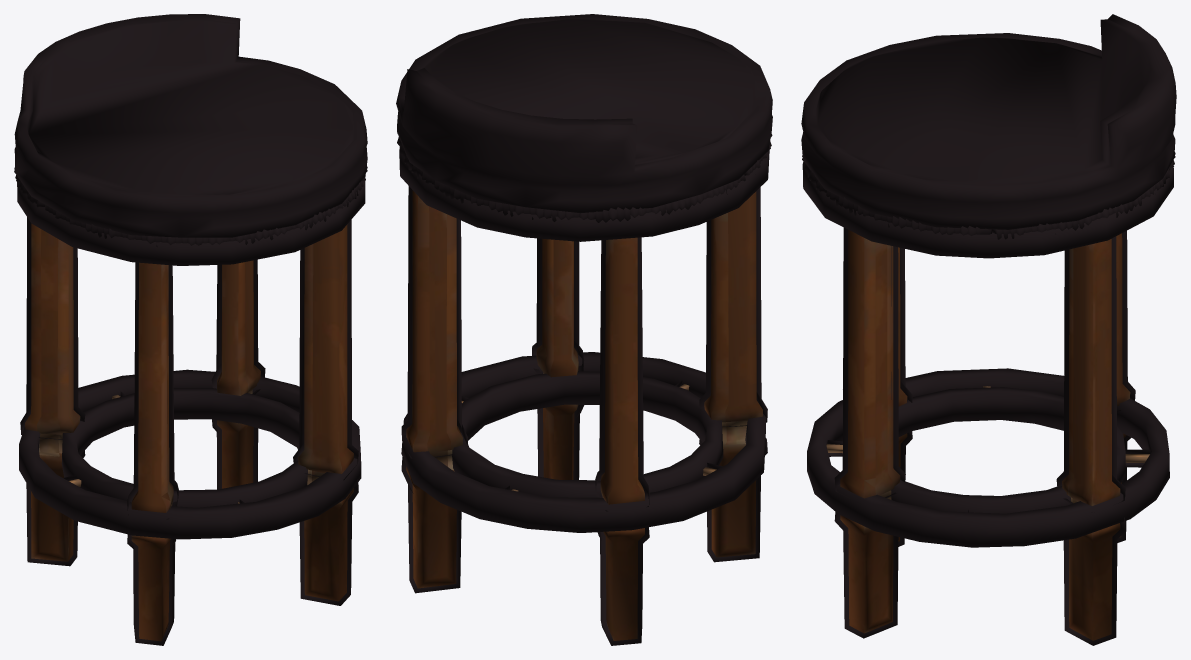
File: SM_Int_BarStool.fbx
The picture shows the model from 3 angles, left to right: view 1: azimuth 30°, elevation 25°; view 2: azimuth 150°, elevation 25°; view 3: azimuth 270°, elevation 25°; orthographic projection. The views are drawn at different scales.
Parts seen in each view (by area): view 1: SM_Int_BarStool; view 2: SM_Int_BarStool; view 3: SM_Int_BarStool.
Part boxes in pixels (<box>): SM_Int_BarStool: <box>14,14,367,645</box>; SM_Int_BarStool: <box>396,14,772,645</box>; SM_Int_BarStool: <box>801,14,1176,645</box>.
Size of what is drawn, in the model's own units: 0.5177 by 0.7919 by 0.5192.
